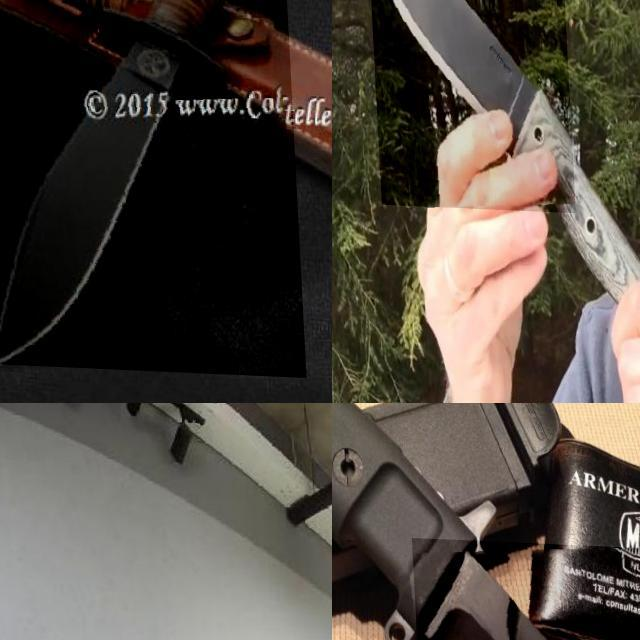-: (0, 0, 300, 374), (363, 0, 571, 210), (409, 535, 640, 640)
